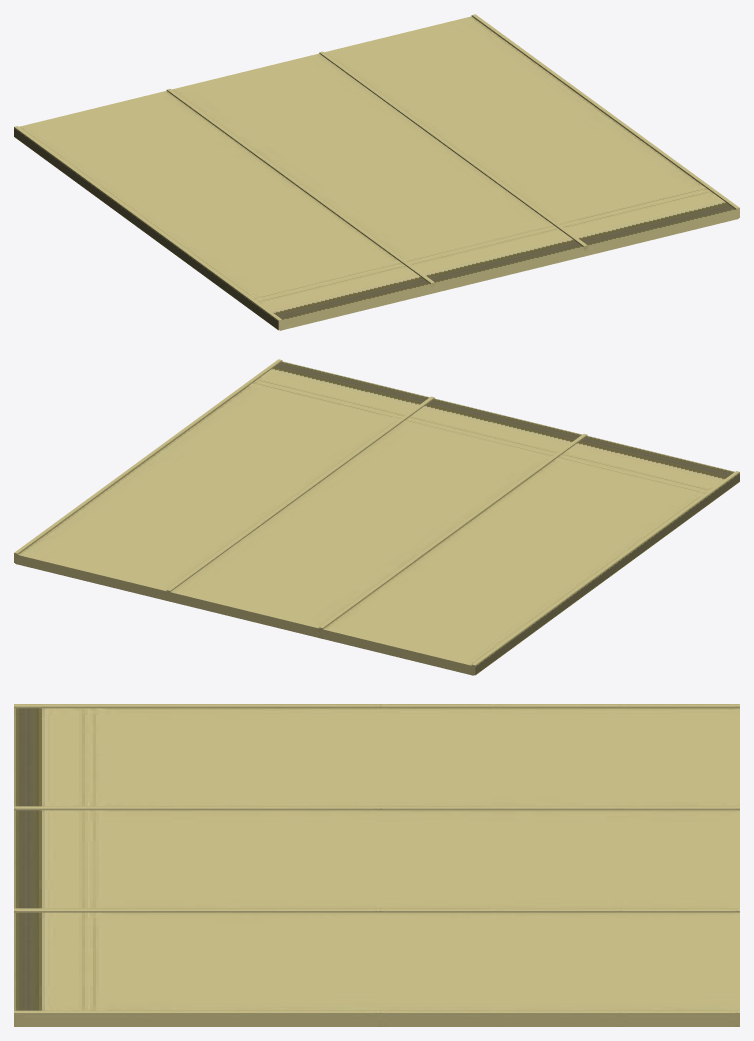
The model's file is PR_carpet_tile_L0.glb.
3 renders of one model, top to bottom at view 1: azimuth 30°, elevation 25°; view 2: azimuth 150°, elevation 25°; view 3: azimuth 270°, elevation 25°, orthographic. The views are drawn at different scales.
Visible parts, largest first — view 1: PR_carpet_tile_L0; view 2: PR_carpet_tile_L0; view 3: PR_carpet_tile_L0.
Boxes of the visible parts, left/top/right/bottom form: PR_carpet_tile_L0: left=14, top=14, right=739, bottom=330; PR_carpet_tile_L0: left=14, top=359, right=739, bottom=675; PR_carpet_tile_L0: left=14, top=704, right=739, bottom=1026.
Size of the model in its own units: 1.01 by 0.0225 by 1.
1 material, 1 textured.
